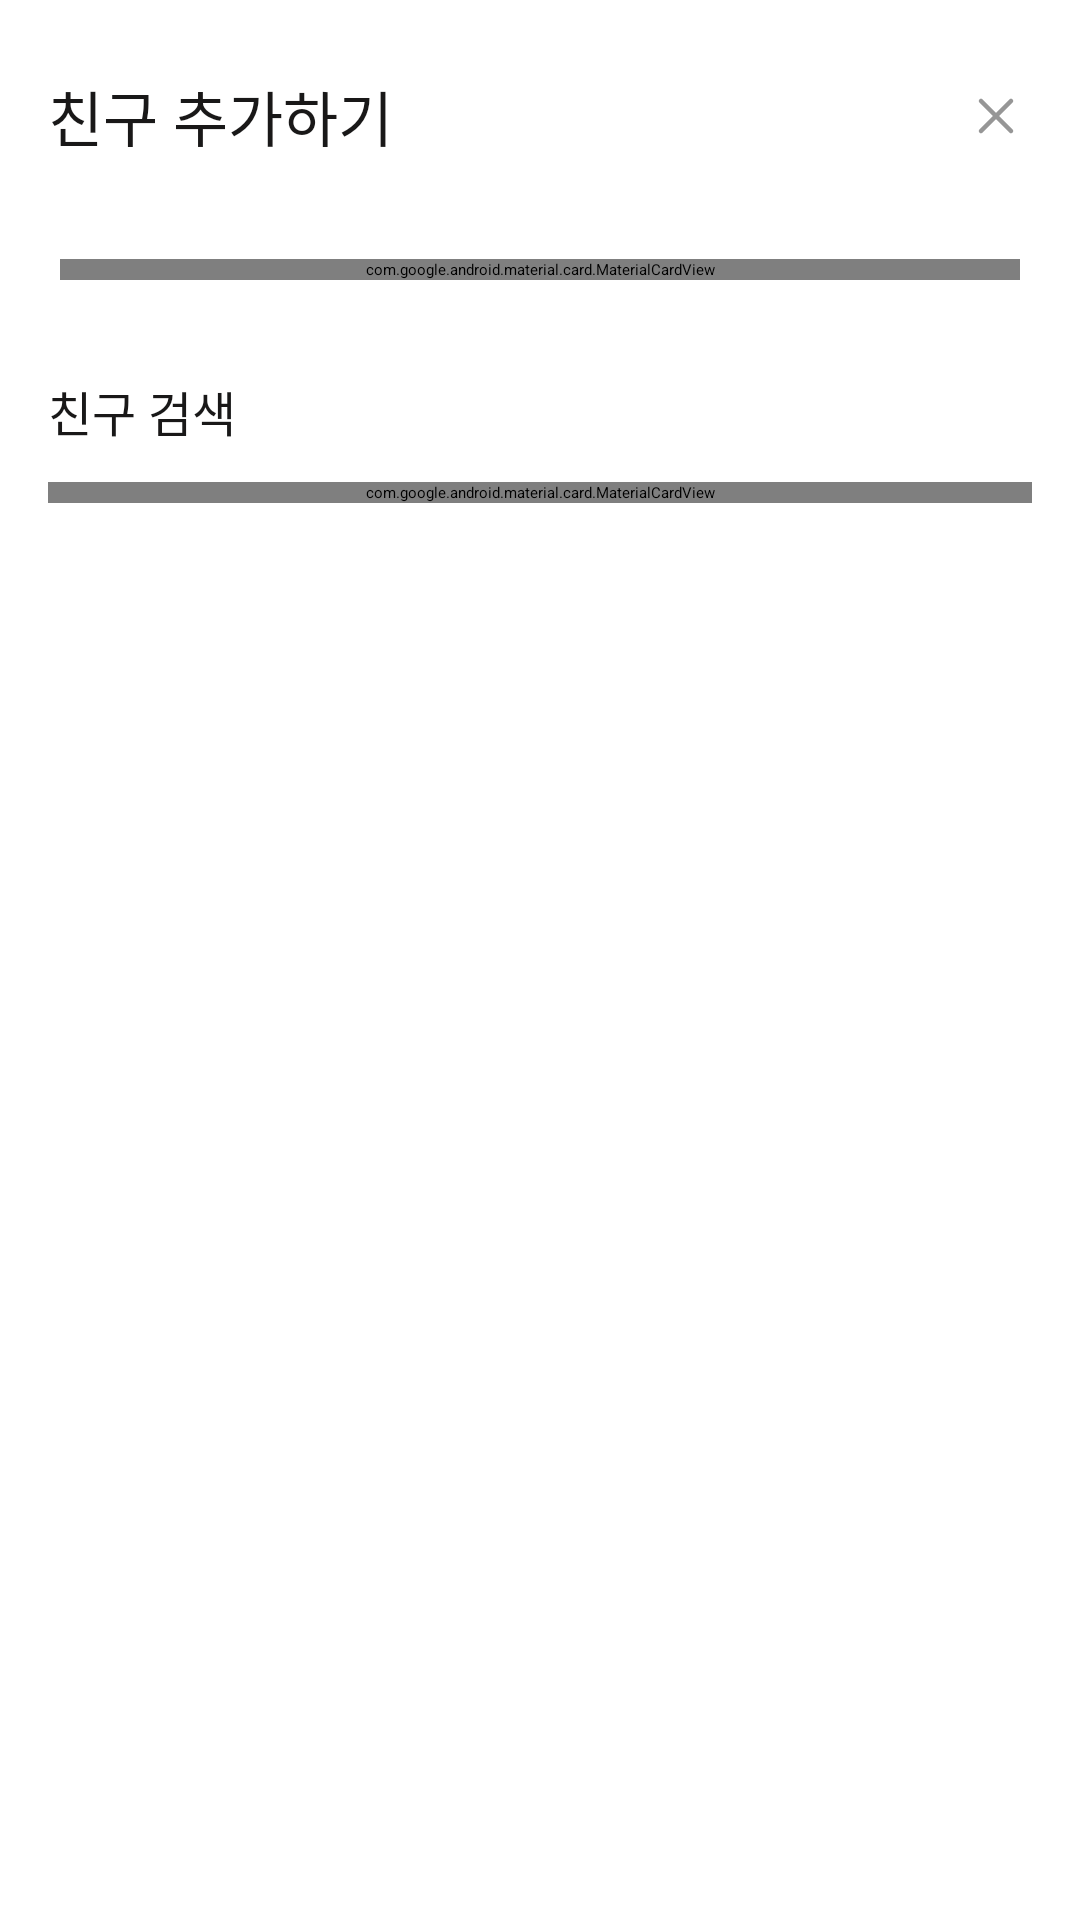

Where to tap for icons on this 1080 × 1920 app screen, as [x,y]:
cancel: [996,116]
